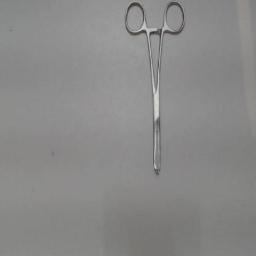Allis Tissue Forceps: (121, 0, 189, 182)
